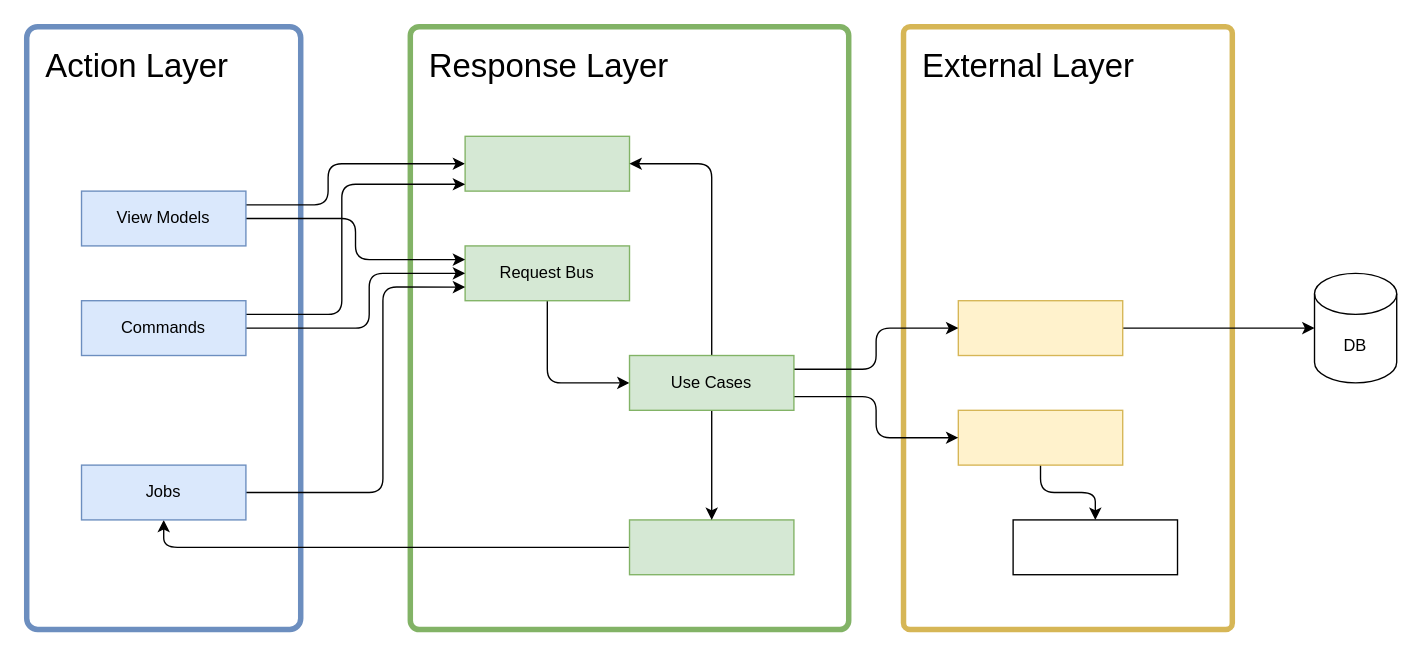
This 1421x655 diagram has some shape labels left out. Here are the shapes that lost their labels. From the top down, the centre of each, then its label:
At pixel 547 163: "Event Bus".
At pixel 1040 327: "Data".
At pixel 1040 437: "State".
At pixel 711 547: "Scheduled Jobs".
At pixel 1095 547: "In Memory".
